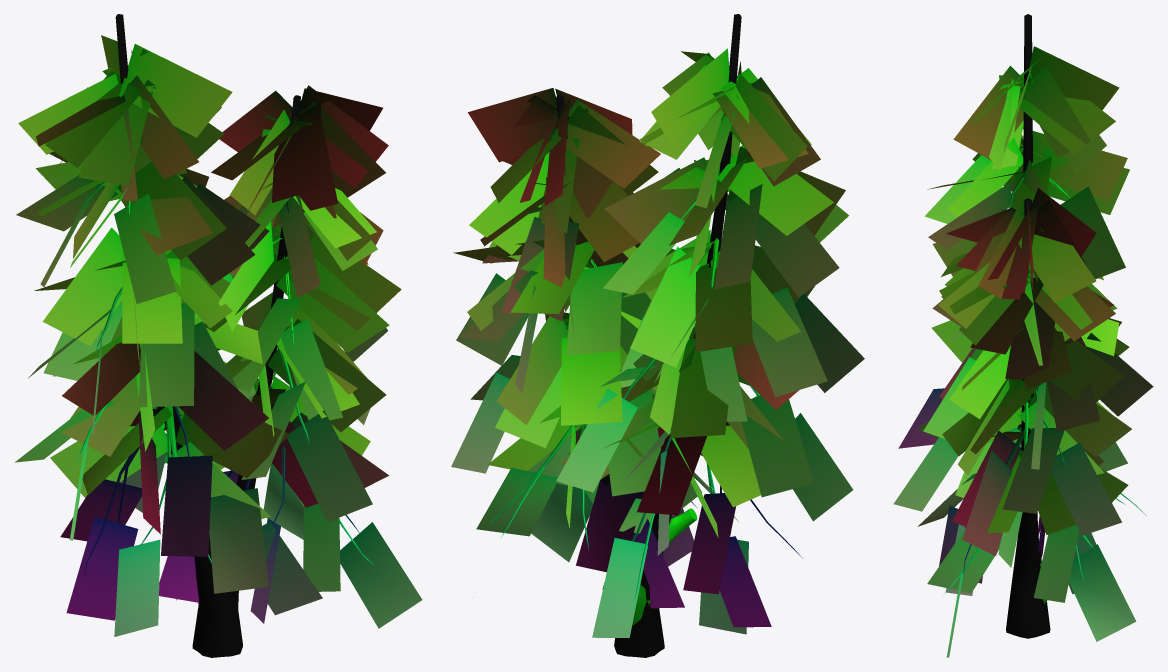
The model's file is M_Pine_3_9.fbx.
3 views of the same model, side by side, from view 1: azimuth 30°, elevation 25°; view 2: azimuth 150°, elevation 25°; view 3: azimuth 270°, elevation 25° (orthographic). The views are drawn at different scales.
Parts seen in each view (by area): view 1: Tree_9; view 2: Tree_9; view 3: Tree_9.
Boxes of the visible parts, x1,y1,x2,y2 form: Tree_9: (15,14,422,657); Tree_9: (451,14,864,657); Tree_9: (893,14,1153,657).
Size of the model in its own units: 1898 by 3251 by 1340.
